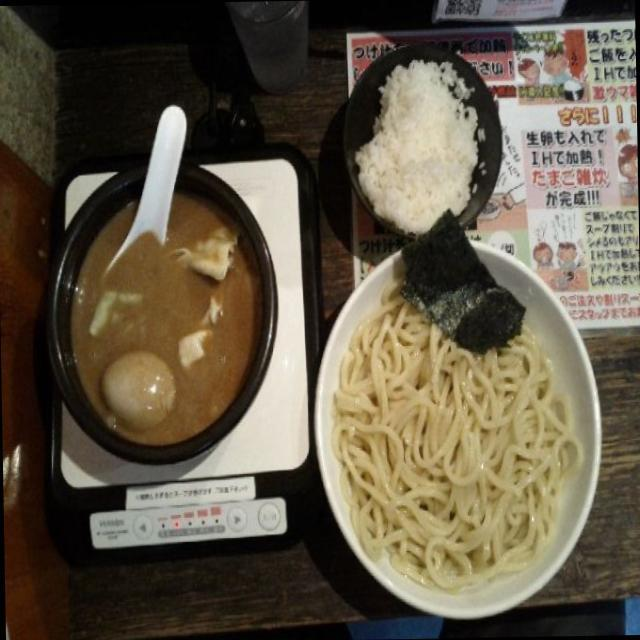Rice: (358, 71, 482, 234)
